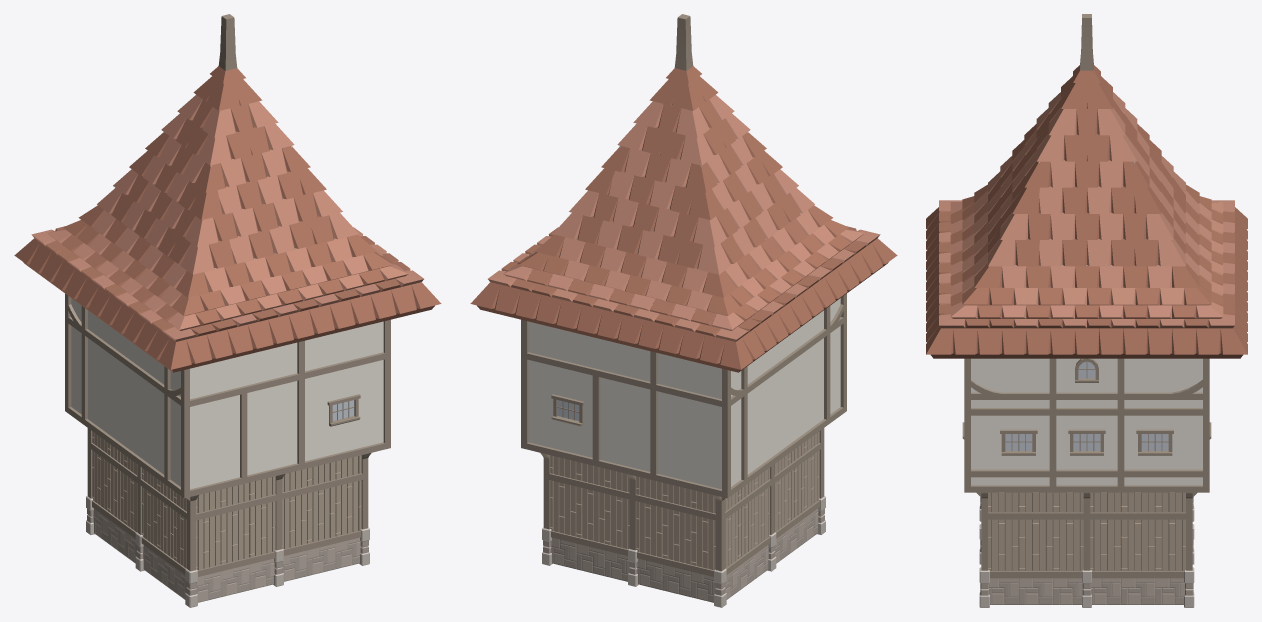
File: house4.glb
The picture shows the model from 3 angles, left to right: view 1: azimuth 30°, elevation 25°; view 2: azimuth 150°, elevation 25°; view 3: azimuth 270°, elevation 25°; orthographic projection. The views are drawn at different scales.
Parts seen in each view (by area): view 1: hosue4; view 2: hosue4; view 3: hosue4.
Part boxes in pixels (x1,y1,x2,y2): hosue4: (14,14,441,607); hosue4: (470,14,897,607); hosue4: (926,14,1247,607).
Size of the model in its own units: 9.44 by 17.7 by 9.44.
